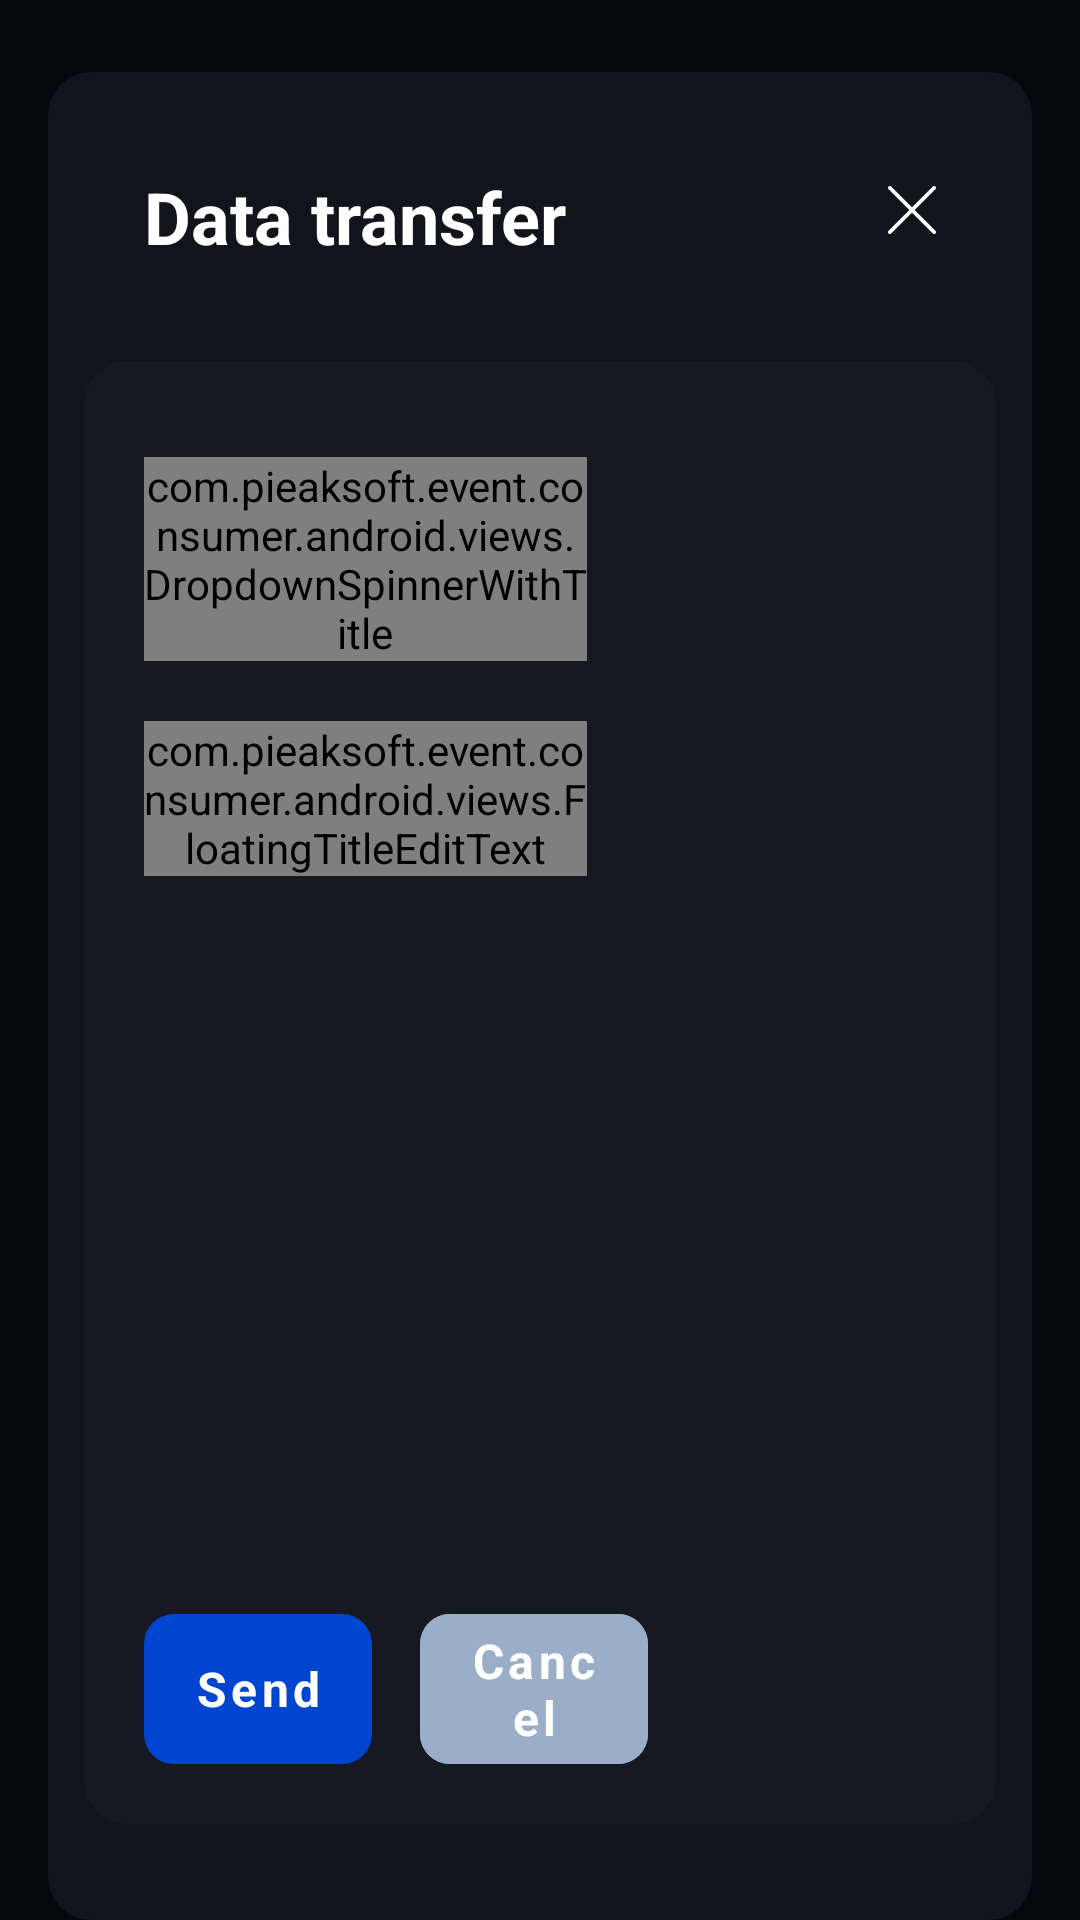

Point at icon controls on the screen. Image size 1080 × 1920, points as point (x, y).
close: point (912, 210)
